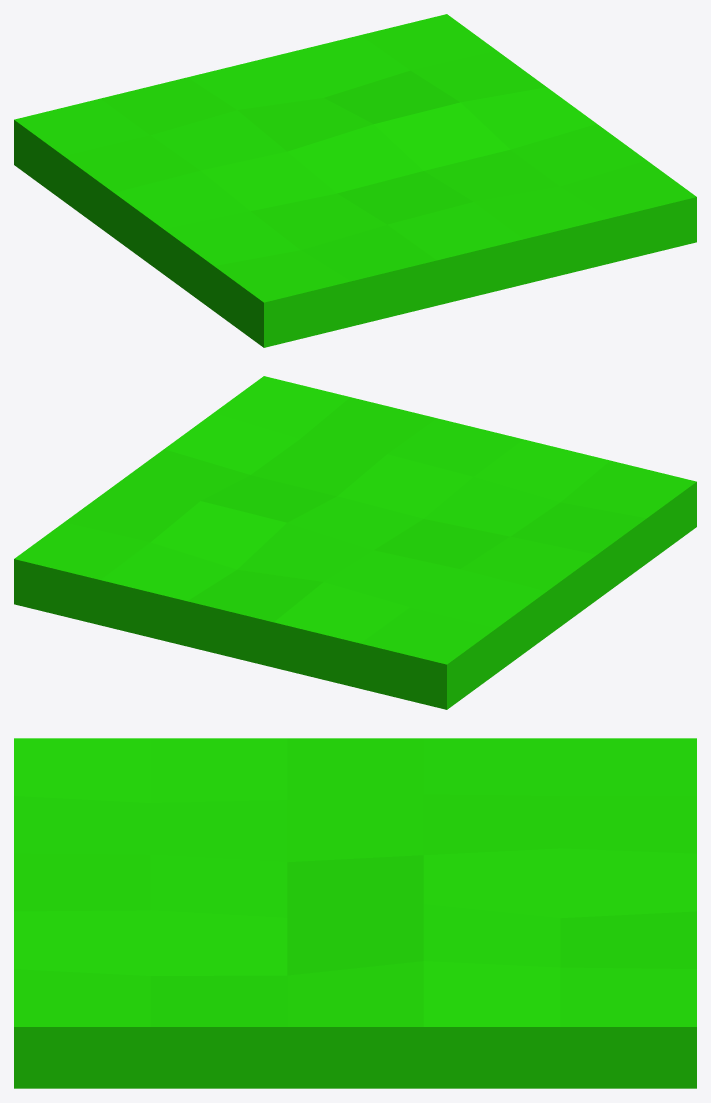
The model's file is newForest.fbx.
3 views of the same model, one above another, from view 1: azimuth 30°, elevation 25°; view 2: azimuth 150°, elevation 25°; view 3: azimuth 270°, elevation 25° (orthographic). The views are drawn at different scales.
Visible parts, largest first — view 1: Cube.002; view 2: Cube.002; view 3: Cube.002.
Part boxes in pixels (x1,y1,x2,y2): Cube.002: (14, 14, 696, 347); Cube.002: (14, 376, 696, 709); Cube.002: (14, 738, 696, 1088).
Bounding box in the file's own units: 200 × 22.61 × 200.
